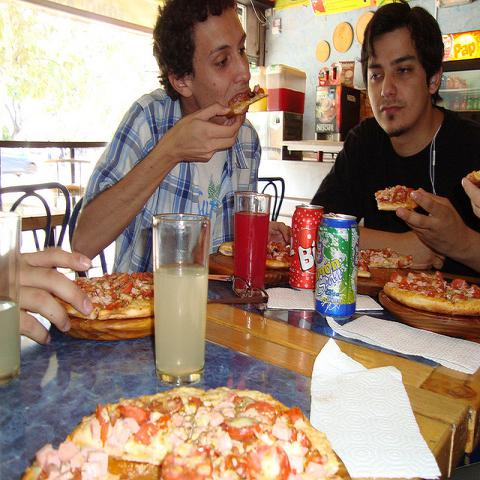car: (1, 148, 39, 175)
